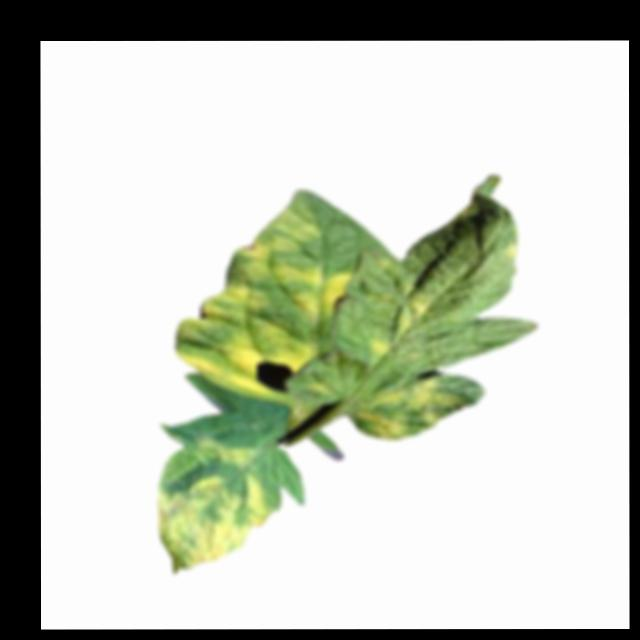Leaf_Mold: (154, 436, 278, 573), (171, 285, 315, 394), (358, 377, 464, 441), (361, 276, 432, 357), (228, 205, 321, 263), (272, 261, 356, 322)
